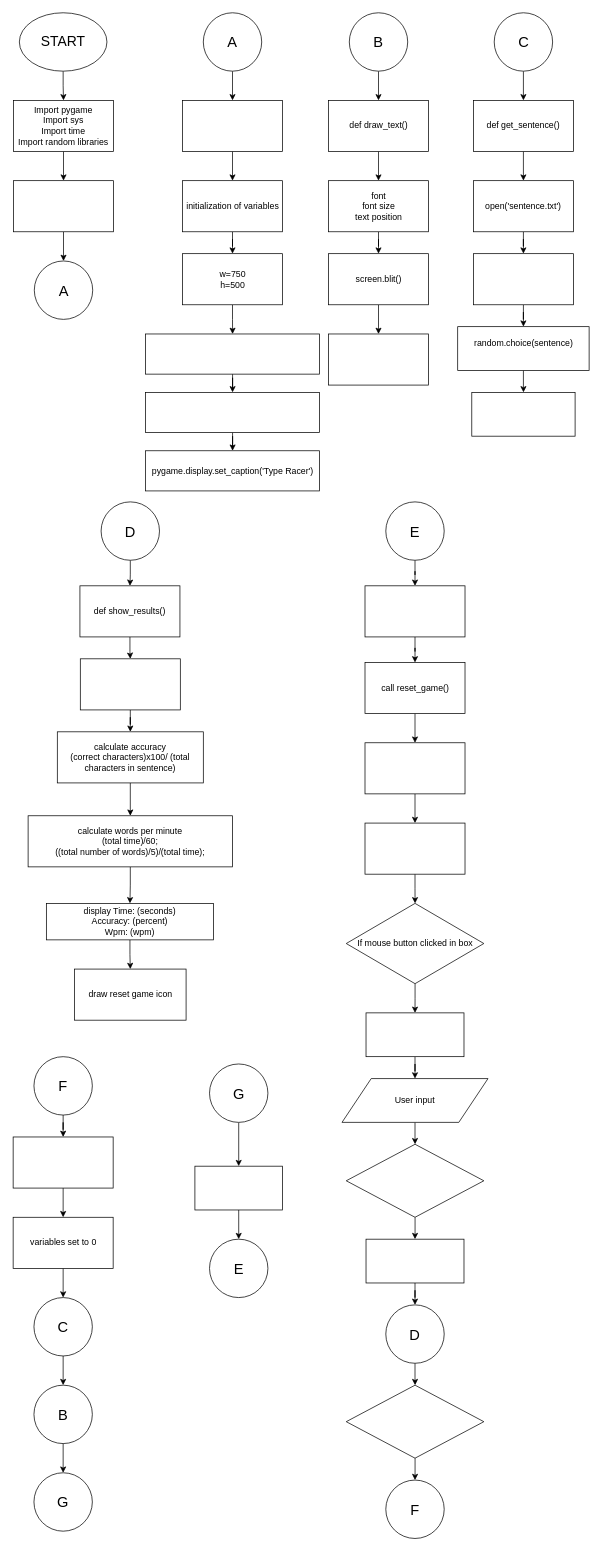
Image size: 602x1551. Some labels were removed from this diagram. Here are the shapes that lost their labels. From the top down, the centre of each, then its label:
point 232,125: def __init__()
point 63,206: Class game
point 523,279: sentence split \n
point 232,353: pygame.image.load('loadingscreen1.png')
point 378,359: pygame.display.update()
point 232,412: pygame.image.load('background.png')
point 523,414: return sentence
point 414,611: def run()
point 130,684: calculate time time() - time_start
point 414,768: Infinite loop that will capture mouse and keyboard events
point 414,848: draw heading and input box on screen
point 414,1034: Then start timer
point 62,1162: def reset_game()
point 415,1180: If button pressed RETURN
point 238,1187: call Game().run()
point 414,1260: Then end timer
point 415,1421: If RESET icon pressed
